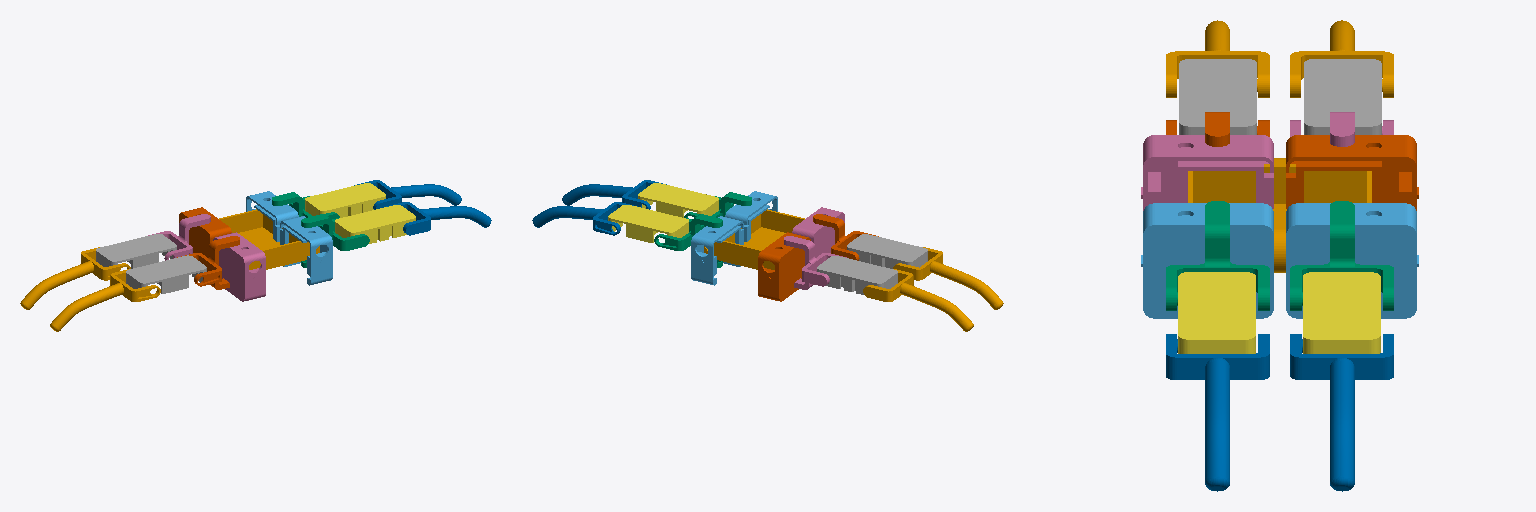
--- Facts derived from the render (not from the file) ---
The picture shows the robot from 3 angles, left to right: view 1: azimuth 30°, elevation 25°; view 2: azimuth 150°, elevation 25°; view 3: azimuth 270°, elevation 25°; orthographic projection.
Robot: RobotProto_UnLink — 17 links, 16 joints (12 revolute, 4 fixed); root link Chassis-1; default pose: every joint at zero.
Links seen in each view (by area): view 1: Chassis-1, Emplacement_Moteur-2, Emplacement_Moteur_Double-3, Emplacement_Moteur_Double-2, Emplacement_Moteur_Inverse-1, Emplacement_Moteur_Double-1, Emplacement_Moteur_Double-4, Patte-2, Patte-4, Patte-3, Patte-1, Rotation_Horrizontale-2 (+5 smaller); view 2: Chassis-1, Emplacement_Moteur_Inverse-2, Emplacement_Moteur_Double-4, Emplacement_Moteur_Double-1, Emplacement_Moteur-1, Emplacement_Moteur_Double-2, Emplacement_Moteur_Double-3, Patte-4, Patte-2, Patte-1, Patte-3, Rotation_Horrizontale-4 (+5 smaller); view 3: Emplacement_Moteur-1, Emplacement_Moteur_Inverse-1, Emplacement_Moteur-2, Emplacement_Moteur_Inverse-2, Emplacement_Moteur_Double-3, Emplacement_Moteur_Double-1, Patte-1, Patte-3, Chassis-1, Emplacement_Moteur_Double-2, Emplacement_Moteur_Double-4, Rotation_Horrizontale-1 (+5 smaller).
Boxes of the visible links, x1,y1,x2,y2 form: Chassis-1: [219, 209, 319, 269]; Emplacement_Moteur-2: [213, 232, 265, 301]; Emplacement_Moteur_Double-3: [335, 205, 415, 243]; Emplacement_Moteur_Double-2: [126, 255, 206, 293]; Emplacement_Moteur_Inverse-1: [280, 216, 332, 285]; Emplacement_Moteur_Double-1: [305, 183, 385, 217]; Emplacement_Moteur_Double-4: [96, 234, 176, 268]; Patte-2: [50, 269, 160, 331]; Patte-4: [20, 247, 130, 309]; Patte-3: [386, 202, 491, 235]; Patte-1: [354, 180, 461, 209]; Rotation_Horrizontale-2: [177, 236, 239, 289]; Chassis-1: [704, 209, 804, 269]; Emplacement_Moteur_Inverse-2: [758, 232, 810, 301]; Emplacement_Moteur_Double-4: [817, 256, 897, 294]; Emplacement_Moteur_Double-1: [608, 205, 688, 242]; Emplacement_Moteur-1: [691, 216, 743, 285]; Emplacement_Moteur_Double-2: [847, 234, 927, 268]; Emplacement_Moteur_Double-3: [638, 183, 718, 217]; Patte-4: [863, 269, 973, 331]; Patte-2: [893, 247, 1003, 309]; Patte-1: [532, 202, 637, 235]; Patte-3: [562, 180, 666, 209]; Rotation_Horrizontale-4: [784, 236, 846, 289]; Emplacement_Moteur-1: [1286, 203, 1418, 318]; Emplacement_Moteur_Inverse-1: [1141, 203, 1273, 318]; Emplacement_Moteur-2: [1141, 135, 1273, 210]; Emplacement_Moteur_Inverse-2: [1286, 135, 1418, 210]; Emplacement_Moteur_Double-3: [1178, 272, 1255, 353]; Emplacement_Moteur_Double-1: [1303, 272, 1380, 353]; Patte-1: [1290, 334, 1393, 491]; Patte-3: [1166, 334, 1269, 491]; Chassis-1: [1188, 158, 1371, 272]; Emplacement_Moteur_Double-2: [1179, 59, 1256, 134]; Emplacement_Moteur_Double-4: [1304, 59, 1381, 134]; Rotation_Horrizontale-1: [1290, 201, 1393, 310].
Size in the robot's own frame: 0.4629 by 0.1214 by 0.0505 metres.
Meshes: 6 distinct files referenced, 17 mesh visuals loaded (6 binary STL).

robot.urdf — RobotProto_UnLink:
<?xml version='1.0' encoding='utf-8'?>
<robot name="RobotProto_UnLink">
    <link name="Chassis-1">
        <inertial>
            <origin xyz="1.8562928971732616e-15 0.040299999999996165 0.007076950770185227" rpy="0.0 0.0 0.0" />
            <mass value="0.21196093233068553" />
            <inertia ixx="0.00017114929919827894" iyy="0.0001469111980913878" izz="0.00030116952046030886" ixy="-1.5720931501039814e-18" iyz="2.7037291676357267e-18" ixz="-2.202285662861181e-18" />
        </inertial>
        <visual name="Chassis-1_visual">
            <origin xyz="0.0 0.0 0.0" rpy="0.0 0.0 0.0" />
            <geometry>
                <mesh filename="meshes/Chassis.stl" scale="0.001 0.001 0.001" />
            </geometry>
        </visual>
        <collision name="Chassis-1_collision">
            <origin xyz="0.0 0.0 0.0" rpy="0.0 0.0 0.0" />
            <geometry>
                <mesh filename="meshes/Chassis.stl" scale="0.001 0.001 0.001" />
            </geometry>
        </collision>
    </link>
    <link name="Emplacement_Moteur-1">
        <inertial>
            <origin xyz="0.00018264354212428448 -0.018578056787563444 0.0020604245825693156" rpy="0.0 -0.0 0.0" />
            <mass value="0.05666008368055856" />
            <inertia ixx="1.2139944779560714e-05" iyy="7.390384559666164e-06" izz="1.2202708505212736e-05" ixy="9.578340128274613e-08" iyz="9.199629448996502e-08" ixz="2.448373394001402e-06" />
        </inertial>
        <visual name="Emplacement_Moteur-1_visual">
            <origin xyz="0.007778174593050109 -0.035100000000000034 -0.01411345596729134" rpy="0.7853981633975923 1.0034516669538928e-15 1.570796326794894" />
            <geometry>
                <mesh filename="meshes/Emplacement_Moteur.stl" scale="0.001 0.001 0.001" />
            </geometry>
        </visual>
        <collision name="Emplacement_Moteur-1_collision">
            <origin xyz="0.007778174593050109 -0.035100000000000034 -0.01411345596729134" rpy="0.7853981633975923 1.0034516669538928e-15 1.570796326794894" />
            <geometry>
                <mesh filename="meshes/Emplacement_Moteur.stl" scale="0.001 0.001 0.001" />
            </geometry>
        </collision>
    </link>
    <link name="Rotation_Horrizontale-1">
        <inertial>
            <origin xyz="0.0014500938658666663 0.023499999980284896 -0.013799906236358142" rpy="0.0 2.524354896707238e-29 2.2270310769781966e-31" />
            <mass value="0.06428803829235512" />
            <inertia ixx="1.926092042933382e-05" iyy="1.8675016758942094e-05" izz="1.9260920261709184e-05" ixy="-1.695833193868144e-06" iyz="1.6958331622453576e-06" ixz="1.3518309145883e-07" />
        </inertial>
        <visual name="Rotation_Horrizontale-1_visual">
            <origin xyz="0.005499999999997121 -0.005500000000002686 -0.03799999999999998" rpy="2.2305417370969085e-15 -1.5707963267947915 0" />
            <geometry>
                <mesh filename="meshes/Rotation_Horrizontale.stl" scale="0.001 0.001 0.001" />
            </geometry>
        </visual>
        <collision name="Rotation_Horrizontale-1_collision">
            <origin xyz="0.005499999999997121 -0.005500000000002686 -0.03799999999999998" rpy="2.2305417370969085e-15 -1.5707963267947915 0" />
            <geometry>
                <mesh filename="meshes/Rotation_Horrizontale.stl" scale="0.001 0.001 0.001" />
            </geometry>
        </collision>
    </link>
    <link name="Emplacement_Moteur_Double-1">
        <inertial>
            <origin xyz="0.015589156449412266 0.00183205068988335 0.02449999999999162" rpy="1.262177448353619e-29 4.157451522281758e-30 0.0" />
            <mass value="0.11882840187345695" />
            <inertia ixx="5.0163572819187036e-05" iyy="6.0618480288415126e-05" izz="1.5682922962262136e-05" ixy="-1.23517749662463e-07" iyz="-2.233382490049073e-18" ixz="-1.6318565560043534e-17" />
        </inertial>
        <visual name="Emplacement_Moteur_Double-1_visual">
            <origin xyz="-0.0009999999999975894 0.007999999999999795 0.024500000000000313" rpy="1.570796326794967 1.5707963267948175 0" />
            <geometry>
                <mesh filename="meshes/Emplacement_Moteur_Double.stl" scale="0.001 0.001 0.001" />
            </geometry>
        </visual>
        <collision name="Emplacement_Moteur_Double-1_collision">
            <origin xyz="-0.0009999999999975894 0.007999999999999795 0.024500000000000313" rpy="1.570796326794967 1.5707963267948175 0" />
            <geometry>
                <mesh filename="meshes/Emplacement_Moteur_Double.stl" scale="0.001 0.001 0.001" />
            </geometry>
        </collision>
    </link>
    <link name="Patte-1">
        <inertial>
            <origin xyz="-0.0440936805432389 0.004964274640176319 -0.01421264208271322" rpy="0.0 1.515263519924789e-29 0.0" />
            <mass value="0.08863931841766456" />
            <inertia ixx="1.384987512745327e-05" iyy="7.989769070293725e-05" izz="7.498764898014316e-05" ixy="1.4550663897315022e-05" iyz="4.564678281501597e-07" ixz="-3.5839432593411108e-06" />
        </inertial>
        <visual name="Patte-1_visual">
            <origin xyz="0.0054999999999963125 -0.005500000003636213 -0.038000000000000214" rpy="-1.5707963267948106 1.5707963267948086 0" />
            <geometry>
                <mesh filename="meshes/Patte.stl" scale="0.001 0.001 0.001" />
            </geometry>
        </visual>
        <collision name="Patte-1_collision">
            <origin xyz="0.0054999999999963125 -0.005500000003636213 -0.038000000000000214" rpy="-1.5707963267948106 1.5707963267948086 0" />
            <geometry>
                <mesh filename="meshes/Patte.stl" scale="0.001 0.001 0.001" />
            </geometry>
        </collision>
    </link>
    <link name="Rotation_Horrizontale-2">
        <inertial>
            <origin xyz="0.001450093865865838 0.02349999998028558 -0.013799906236357063" rpy="-3.1554436208840472e-30 -0.0 9.175217601442837e-30" />
            <mass value="0.06428803829235512" />
            <inertia ixx="1.9260920429334057e-05" iyy="1.8675016758941843e-05" izz="1.9260920261709124e-05" ixy="-1.6958331938681964e-06" iyz="1.69583316224523e-06" ixz="1.351830914586231e-07" />
        </inertial>
        <visual name="Rotation_Horrizontale-2_visual">
            <origin xyz="0.0054999999999999225 -0.005500000000000691 -0.037999999999999846" rpy="7.41326909627341e-14 -1.5707963267948646 0" />
            <geometry>
                <mesh filename="meshes/Rotation_Horrizontale.stl" scale="0.001 0.001 0.001" />
            </geometry>
        </visual>
        <collision name="Rotation_Horrizontale-2_collision">
            <origin xyz="0.0054999999999999225 -0.005500000000000691 -0.037999999999999846" rpy="7.41326909627341e-14 -1.5707963267948646 0" />
            <geometry>
                <mesh filename="meshes/Rotation_Horrizontale.stl" scale="0.001 0.001 0.001" />
            </geometry>
        </collision>
    </link>
    <link name="Emplacement_Moteur-2">
        <inertial>
            <origin xyz="0.001967356457877125 -0.018628056787563376 8.957541743240149e-05" rpy="-6.310887241768095e-30 -0.0 0.0" />
            <mass value="0.05666008368055856" />
            <inertia ixx="1.2139944779559992e-05" iyy="7.390384559666131e-06" izz="1.2202708505213373e-05" ixy="-9.578340128236005e-08" iyz="-9.199629448950835e-08" ixz="2.448373394001523e-06" />
        </inertial>
        <visual name="Emplacement_Moteur-2_visual">
            <origin xyz="-0.00562817459305025 -0.035149999999999085 0.016263455967293207" rpy="-2.356194490192341 7.284738493841572e-14 1.5707963267949405" />
            <geometry>
                <mesh filename="meshes/Emplacement_Moteur.stl" scale="0.001 0.001 0.001" />
            </geometry>
        </visual>
        <collision name="Emplacement_Moteur-2_collision">
            <origin xyz="-0.00562817459305025 -0.035149999999999085 0.016263455967293207" rpy="-2.356194490192341 7.284738493841572e-14 1.5707963267949405" />
            <geometry>
                <mesh filename="meshes/Emplacement_Moteur.stl" scale="0.001 0.001 0.001" />
            </geometry>
        </collision>
    </link>
    <link name="Emplacement_Moteur_Double-2">
        <inertial>
            <origin xyz="0.015589156449411355 -0.0018320506898846834 -0.024499999999992108" rpy="-3.1554436208840472e-30 -5.734105218675184e-31 -6.310887241768095e-30" />
            <mass value="0.11882840187345695" />
            <inertia ixx="5.0163572819187104e-05" iyy="6.061848028841408e-05" izz="1.5682922962262102e-05" ixy="1.2351774966322748e-07" iyz="-3.0598699526833034e-18" ixz="1.5167899919915566e-17" />
        </inertial>
        <visual name="Emplacement_Moteur_Double-2_visual">
            <origin xyz="-0.0009999999999988018 -0.008000000000000215 -0.024500000000000136" rpy="-1.5707963267948806 -1.5707963267948528 0" />
            <geometry>
                <mesh filename="meshes/Emplacement_Moteur_Double.stl" scale="0.001 0.001 0.001" />
            </geometry>
        </visual>
        <collision name="Emplacement_Moteur_Double-2_collision">
            <origin xyz="-0.0009999999999988018 -0.008000000000000215 -0.024500000000000136" rpy="-1.5707963267948806 -1.5707963267948528 0" />
            <geometry>
                <mesh filename="meshes/Emplacement_Moteur_Double.stl" scale="0.001 0.001 0.001" />
            </geometry>
        </collision>
    </link>
    <link name="Patte-2">
        <inertial>
            <origin xyz="-0.044093680543236966 -0.004964274640175666 0.014212642082717665" rpy="0.0 -8.771572326726048e-32 0.0" />
            <mass value="0.08863931841766456" />
            <inertia ixx="1.3849875127453274e-05" iyy="7.989769070293641e-05" izz="7.498764898014148e-05" ixy="-1.4550663897313045e-05" iyz="4.564678281517564e-07" ixz="3.583943259347536e-06" />
        </inertial>
        <visual name="Patte-2_visual">
            <origin xyz="0.005500000000000896 0.005500000003636187 0.03799999999999934" rpy="1.5707963267949565 -1.5707963267948482 0" />
            <geometry>
                <mesh filename="meshes/Patte.stl" scale="0.001 0.001 0.001" />
            </geometry>
        </visual>
        <collision name="Patte-2_collision">
            <origin xyz="0.005500000000000896 0.005500000003636187 0.03799999999999934" rpy="1.5707963267949565 -1.5707963267948482 0" />
            <geometry>
                <mesh filename="meshes/Patte.stl" scale="0.001 0.001 0.001" />
            </geometry>
        </collision>
    </link>
    <link name="Emplacement_Moteur_Inverse-1">
        <inertial>
            <origin xyz="-8.957541743090603e-05 0.018628056787563452 0.0019673564578762816" rpy="0.0 -0.0 0.0" />
            <mass value="0.05666008368055857" />
            <inertia ixx="1.2202708505213475e-05" iyy="7.390384559665983e-06" izz="1.2139944779560177e-05" ixy="-9.19962944900239e-08" iyz="9.578340128282167e-08" ixz="-2.448373394001308e-06" />
        </inertial>
        <visual name="Emplacement_Moteur_Inverse-1_visual">
            <origin xyz="-0.016263455967290646 0.035150000000000035 -0.005628174593051701" rpy="-2.3561944901923604 2.0177013668448086e-15 -1.5707963267948974" />
            <geometry>
                <mesh filename="meshes/Emplacement_Moteur_Inverse.stl" scale="0.001 0.001 0.001" />
            </geometry>
        </visual>
        <collision name="Emplacement_Moteur_Inverse-1_collision">
            <origin xyz="-0.016263455967290646 0.035150000000000035 -0.005628174593051701" rpy="-2.3561944901923604 2.0177013668448086e-15 -1.5707963267948974" />
            <geometry>
                <mesh filename="meshes/Emplacement_Moteur_Inverse.stl" scale="0.001 0.001 0.001" />
            </geometry>
        </collision>
    </link>
    <link name="Rotation_Horrizontale-3">
        <inertial>
            <origin xyz="0.0014500938658678897 -0.023499999980285777 0.013799906236356376" rpy="3.944304526105059e-31 1.5777218104420236e-30 -4.1770303684899735e-31" />
            <mass value="0.06428803829235512" />
            <inertia ixx="1.9260920429333793e-05" iyy="1.867501675894182e-05" izz="1.9260920261709733e-05" ixy="1.6958331938681422e-06" iyz="1.695833162245038e-06" ixz="-1.351830914587197e-07" />
        </inertial>
        <visual name="Rotation_Horrizontale-3_visual">
            <origin xyz="0.0055000000000000925 0.005500000000000105 0.037999999999999666" rpy="-3.141592653589793 1.5707963267948921 0" />
            <geometry>
                <mesh filename="meshes/Rotation_Horrizontale.stl" scale="0.001 0.001 0.001" />
            </geometry>
        </visual>
        <collision name="Rotation_Horrizontale-3_collision">
            <origin xyz="0.0055000000000000925 0.005500000000000105 0.037999999999999666" rpy="-3.141592653589793 1.5707963267948921 0" />
            <geometry>
                <mesh filename="meshes/Rotation_Horrizontale.stl" scale="0.001 0.001 0.001" />
            </geometry>
        </collision>
    </link>
    <link name="Emplacement_Moteur_Double-3">
        <inertial>
            <origin xyz="0.015589156449410484 0.0018320506898842881 0.02449999999999262" rpy="0.0 -5.290545959084646e-32 0.0" />
            <mass value="0.11882840187345695" />
            <inertia ixx="5.016357281918641e-05" iyy="6.0618480288414096e-05" izz="1.5682922962261946e-05" ixy="-1.2351774966345624e-07" iyz="-1.761800602164209e-18" ixz="-1.4148841418632702e-17" />
        </inertial>
        <visual name="Emplacement_Moteur_Double-3_visual">
            <origin xyz="-0.0009999999999998571 0.007999999999999355 0.024500000000000296" rpy="1.5707963267948846 1.5707963267948664 0" />
            <geometry>
                <mesh filename="meshes/Emplacement_Moteur_Double.stl" scale="0.001 0.001 0.001" />
            </geometry>
        </visual>
        <collision name="Emplacement_Moteur_Double-3_collision">
            <origin xyz="-0.0009999999999998571 0.007999999999999355 0.024500000000000296" rpy="1.5707963267948846 1.5707963267948664 0" />
            <geometry>
                <mesh filename="meshes/Emplacement_Moteur_Double.stl" scale="0.001 0.001 0.001" />
            </geometry>
        </collision>
    </link>
    <link name="Patte-3">
        <inertial>
            <origin xyz="-0.04409368054323833 0.004964274640173485 -0.014212642082716165" rpy="-1.5777218104420236e-30 1.1630365263858622e-30 3.944304526105059e-31" />
            <mass value="0.08863931841766456" />
            <inertia ixx="1.3849875127451278e-05" iyy="7.989769070293788e-05" izz="7.498764898014097e-05" ixy="1.4550663897310002e-05" iyz="4.564678281512549e-07" ixz="-3.5839432593453718e-06" />
        </inertial>
        <visual name="Patte-3_visual">
            <origin xyz="0.005499999999999296 -0.005500000003635128 -0.037999999999999916" rpy="-1.5707963267948806 1.5707963267948803 0" />
            <geometry>
                <mesh filename="meshes/Patte.stl" scale="0.001 0.001 0.001" />
            </geometry>
        </visual>
        <collision name="Patte-3_collision">
            <origin xyz="0.005499999999999296 -0.005500000003635128 -0.037999999999999916" rpy="-1.5707963267948806 1.5707963267948803 0" />
            <geometry>
                <mesh filename="meshes/Patte.stl" scale="0.001 0.001 0.001" />
            </geometry>
        </collision>
    </link>
    <link name="Emplacement_Moteur_Inverse-2">
        <inertial>
            <origin xyz="-0.00018264354212391254 -0.01862805678756338 -0.0022395754174313787" rpy="0.0 -0.0 0.0" />
            <mass value="0.05666008368055857" />
            <inertia ixx="1.2139944779560233e-05" iyy="7.390384559665967e-06" izz="1.2202708505213531e-05" ixy="-9.578340128281826e-08" iyz="9.199629448994685e-08" ixz="-2.4483733940015043e-06" />
        </inertial>
        <visual name="Emplacement_Moteur_Inverse-2_visual">
            <origin xyz="-0.007778174593052043 -0.035149999999999515 -0.018413455967291485" rpy="-0.7853981633974627 -2.0187893364524787e-14 1.5707963267948877" />
            <geometry>
                <mesh filename="meshes/Emplacement_Moteur_Inverse.stl" scale="0.001 0.001 0.001" />
            </geometry>
        </visual>
        <collision name="Emplacement_Moteur_Inverse-2_collision">
            <origin xyz="-0.007778174593052043 -0.035149999999999515 -0.018413455967291485" rpy="-0.7853981633974627 -2.0187893364524787e-14 1.5707963267948877" />
            <geometry>
                <mesh filename="meshes/Emplacement_Moteur_Inverse.stl" scale="0.001 0.001 0.001" />
            </geometry>
        </collision>
    </link>
    <link name="Rotation_Horrizontale-4">
        <inertial>
            <origin xyz="0.001450093865867812 -0.023499999980286363 0.013799906236355486" rpy="0.0 -0.0 1.992672136428158e-30" />
            <mass value="0.06428803829235512" />
            <inertia ixx="1.9260920429333732e-05" iyy="1.8675016758942006e-05" izz="1.926092026170903e-05" ixy="1.6958331938680944e-06" iyz="1.695833162245042e-06" ixz="-1.3518309145869096e-07" />
        </inertial>
        <visual name="Rotation_Horrizontale-4_visual">
            <origin xyz="0.005499999999999865 0.005499999999998701 0.037999999999999874" rpy="-3.141592653589793 1.570796326794862 0" />
            <geometry>
                <mesh filename="meshes/Rotation_Horrizontale.stl" scale="0.001 0.001 0.001" />
            </geometry>
        </visual>
        <collision name="Rotation_Horrizontale-4_collision">
            <origin xyz="0.005499999999999865 0.005499999999998701 0.037999999999999874" rpy="-3.141592653589793 1.570796326794862 0" />
            <geometry>
                <mesh filename="meshes/Rotation_Horrizontale.stl" scale="0.001 0.001 0.001" />
            </geometry>
        </collision>
    </link>
    <link name="Emplacement_Moteur_Double-4">
        <inertial>
            <origin xyz="0.015589156449411208 -0.0018320506898835487 -0.024499999999992195" rpy="1.5777218104420236e-30 1.1609318225572054e-30 0.0" />
            <mass value="0.11882840187345695" />
            <inertia ixx="5.016357281918655e-05" iyy="6.0618480288414015e-05" izz="1.5682922962262488e-05" ixy="1.2351774966281093e-07" iyz="-2.1845675465270435e-18" ixz="1.4836871869945636e-17" />
        </inertial>
        <visual name="Emplacement_Moteur_Double-4_visual">
            <origin xyz="-0.0009999999999986643 -0.00799999999999968 -0.024500000000000244" rpy="-1.5707963267948442 -1.5707963267948544 0" />
            <geometry>
                <mesh filename="meshes/Emplacement_Moteur_Double.stl" scale="0.001 0.001 0.001" />
            </geometry>
        </visual>
        <collision name="Emplacement_Moteur_Double-4_collision">
            <origin xyz="-0.0009999999999986643 -0.00799999999999968 -0.024500000000000244" rpy="-1.5707963267948442 -1.5707963267948544 0" />
            <geometry>
                <mesh filename="meshes/Emplacement_Moteur_Double.stl" scale="0.001 0.001 0.001" />
            </geometry>
        </collision>
    </link>
    <link name="Patte-4">
        <inertial>
            <origin xyz="-0.044093680543237534 -0.004964274640175378 0.014212642082718246" rpy="0.0 5.167961029622619e-31 0.0" />
            <mass value="0.08863931841766456" />
            <inertia ixx="1.3849875127453118e-05" iyy="7.98976907029372e-05" izz="7.498764898013891e-05" ixy="-1.4550663897312276e-05" iyz="4.5646782815214344e-07" ixz="3.5839432593479052e-06" />
        </inertial>
        <visual name="Patte-4_visual">
            <origin xyz="0.005500000000000896 0.005500000003634441 0.03799999999999975" rpy="1.5707963267949467 -1.5707963267948573 0" />
            <geometry>
                <mesh filename="meshes/Patte.stl" scale="0.001 0.001 0.001" />
            </geometry>
        </visual>
        <collision name="Patte-4_collision">
            <origin xyz="0.005500000000000896 0.005500000003634441 0.03799999999999975" rpy="1.5707963267949467 -1.5707963267948573 0" />
            <geometry>
                <mesh filename="meshes/Patte.stl" scale="0.001 0.001 0.001" />
            </geometry>
        </collision>
    </link>
    <joint name="Rev_ARD_V1" type="revolute">
        <origin xyz="0.01624999999999859 0.04699999999999895 -0.015250000000004526" rpy="1.5707963267949654 -1.473937094045259e-13 3.1415926535897203" />
        <parent link="Rotation_Horrizontale-1" />
        <child link="Emplacement_Moteur_Double-1" />
        <axis xyz="0.9999999999999978 2.786999939012132e-15 -7.416873968880389e-14" />
        <limit lower="-1.570796" upper="1.570796" effort="1000000" velocity="1000000" />
    </joint>
    <joint name="Rev_ARD_V2" type="revolute">
        <origin xyz="0.0010000000000037802 -8.248957072964913e-16 0.04900000000000037" rpy="-3.141592653589723 1.5707963267947325 0" />
        <parent link="Emplacement_Moteur_Double-1" />
        <child link="Patte-1" />
        <axis xyz="7.405187574249794e-14 7.119147038242786e-14 1.0000000000000107" />
        <limit lower="-2.356194" upper="0.785398" effort="1000000" velocity="1000000" />
    </joint>
    <joint name="Rev_ARD_H" type="revolute">
        <origin xyz="0.012020815280170481 -0.01060000000000005 -0.007042388155426523" rpy="-2.356194490192342 1.0422404367752924e-13 -1.5707963267947906" />
        <parent link="Emplacement_Moteur-1" />
        <child link="Rotation_Horrizontale-1" />
        <axis xyz="1.485708859578321e-13 -2.9211022487117275e-15 0.9999999999999954" />
        <limit lower="-1.570796" upper="1.570796" effort="1000000" velocity="1000000" />
    </joint>
    <joint name="Rigide_ARD" type="fixed">
        <origin xyz="0.04202027957955213 0.07810000000000016 0.011520279579551065" rpy="3.141592653589793 -0.7853981633974516 3.141592653589793" />
        <parent link="Chassis-1" />
        <child link="Emplacement_Moteur-1" />
    </joint>
    <joint name="Rev_AVG_H" type="revolute">
        <origin xyz="-0.009870815280170659 -0.010649999999999793 0.009192388155425998" rpy="0.7853981633974786 -3.205617405145942e-14 -1.5707963267949168" />
        <parent link="Emplacement_Moteur-2" />
        <child link="Rotation_Horrizontale-2" />
        <axis xyz="-8.497855136997144e-15 2.5239032783966818e-14 0.999999999999995" />
        <limit lower="-1.570796" upper="1.570796" effort="1000000" velocity="1000000" />
    </joint>
    <joint name="Rev_AVG_V1" type="revolute">
        <origin xyz="0.01624999999999616 0.04700000000000079 -0.015250000000001509" rpy="-1.5707963267948504 -2.8706058565398385e-14 -3.1415926535897607" />
        <parent link="Rotation_Horrizontale-2" />
        <child link="Emplacement_Moteur_Double-2" />
        <axis xyz="0.9999999999999987 3.8702714785638906e-14 4.456093053586641e-15" />
        <limit lower="-1.570796" upper="1.570796" effort="1000000" velocity="1000000" />
    </joint>
    <joint name="Rev_AVG_V2" type="revolute">
        <origin xyz="0.0010000000000021459 -1.8096635301390053e-16 -0.04900000000000043" rpy="-3.141592653589735 -1.5707963267948375 0" />
        <parent link="Emplacement_Moteur_Double-2" />
        <child link="Patte-2" />
        <axis xyz="4.496403249731884e-15 -2.2122171229426476e-14 -1.0000000000000098" />
        <limit lower="-2.356194" upper="0.785398" effort="1000000" velocity="1000000" />
    </joint>
    <joint name="Rigide_AVG" type="fixed">
        <origin xyz="-0.038979720420449206 0.0025000000000027 0.011520279579551066" rpy="6.426424947170849e-14 0.7853981633974509 3.141592653589793" />
        <parent link="Chassis-1" />
        <child link="Emplacement_Moteur-2" />
    </joint>
    <joint name="Rev_AVD_V2" type="revolute">
        <origin xyz="0.0010000000000005243 -1.403321903126198e-15 0.04900000000000034" rpy="3.141592653589781 1.5707963267948795 0" />
        <parent link="Emplacement_Moteur_Double-3" />
        <child link="Patte-3" />
        <axis xyz="5.551115123125783e-15 -9.515819300866433e-15 1.0000000000000062" />
        <limit lower="-2.356194" upper="0.785398" effort="1000000" velocity="1000000" />
    </joint>
    <joint name="Rev_AVD_V1" type="revolute">
        <origin xyz="0.016249999999999983 -0.04699999999999984 0.015249999999999986" rpy="-1.5707963267949074 -1.5221497814816848e-14 -3.1415926535897842" />
        <parent link="Rotation_Horrizontale-3" />
        <child link="Emplacement_Moteur_Double-3" />
        <axis xyz="0.9999999999999949 3.619667207484024e-15 -6.817206217240917e-15" />
        <limit lower="-1.570796" upper="1.570796" effort="1000000" velocity="1000000" />
    </joint>
    <joint name="Rev_AVD_H" type="revolute">
        <origin xyz="-0.00919238815542526 0.010650000000000048 -0.009870815280171143" rpy="-0.7853981633974542 -4.764434057824909e-15 -1.5707963267948908" />
        <parent link="Emplacement_Moteur_Inverse-1" />
        <child link="Rotation_Horrizontale-3" />
        <axis xyz="1.1657341758564134e-14 -2.412898554340499e-15 1.0" />
        <limit lower="-1.570796" upper="1.570796" effort="1000000" velocity="1000000" />
    </joint>
    <joint name="Rigide_AVD" type="fixed">
        <origin xyz="0.03897972042044857 0.002500000000000089 0.01152027957955107" rpy="3.1415926535897873 0.7853981633974523 3.141592653589793" />
        <parent link="Chassis-1" />
        <child link="Emplacement_Moteur_Inverse-1" />
    </joint>
    <joint name="Rev_ARG_H" type="revolute">
        <origin xyz="-0.01202081528017124 -0.010649999999999658 -0.01134238815542556" rpy="0.785398163397416 -3.170260767998522e-14 1.5707963267948761" />
        <parent link="Emplacement_Moteur_Inverse-2" />
        <child link="Rotation_Horrizontale-4" />
        <axis xyz="-1.2698175844150159e-14 -2.8427329483614844e-14 0.9999999999999993" />
        <limit lower="-1.570796" upper="1.570796" effort="1000000" velocity="1000000" />
    </joint>
    <joint name="Rev_ARG_V1" type="revolute">
        <origin xyz="0.01624999999999984 -0.04700000000000054 0.015249999999998301" rpy="1.5707963267948577 5.462053740120357e-14 -3.141592653589757" />
        <parent link="Rotation_Horrizontale-4" />
        <child link="Emplacement_Moteur_Double-4" />
        <axis xyz="0.9999999999999974 4.192236155705186e-14 -4.298901816818027e-15" />
        <limit lower="-1.570796" upper="1.570796" effort="1000000" velocity="1000000" />
    </joint>
    <joint name="Rev_ARG_V2" type="revolute">
        <origin xyz="0.0010000000000018794 9.681144774731366e-16 -0.04900000000000041" rpy="-3.141592653589762 -1.5707963267948637 0" />
        <parent link="Emplacement_Moteur_Double-4" />
        <child link="Patte-4" />
        <axis xyz="-5.662137425588298e-15 9.012720060970305e-15 -1.0000000000000044" />
        <limit lower="-2.356194" upper="0.785398" effort="1000000" velocity="1000000" />
    </joint>
    <joint name="Rigide_ARG" type="fixed">
        <origin xyz="-0.0389797204204478 0.07810000000000274 0.008479720420448925" rpy="3.141592653589723 0.7853981633974451 3.141592653589793" />
        <parent link="Chassis-1" />
        <child link="Emplacement_Moteur_Inverse-2" />
    </joint>
</robot>
